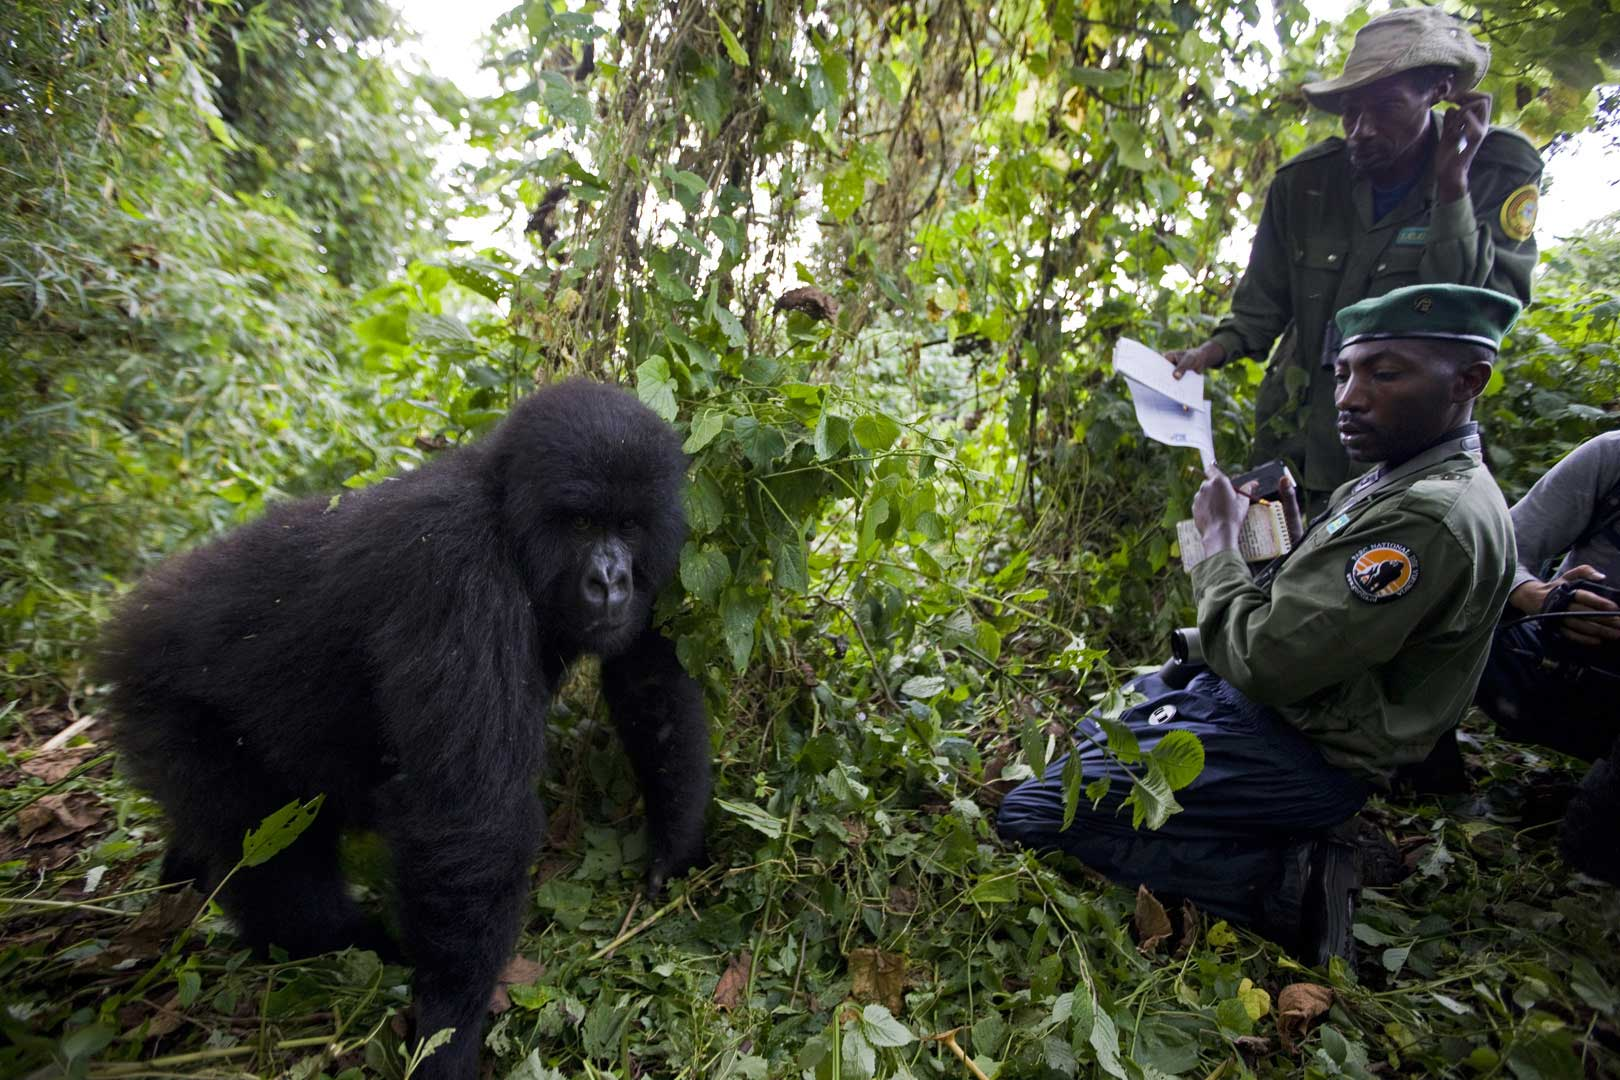Goriila: (49, 328, 809, 1080)
